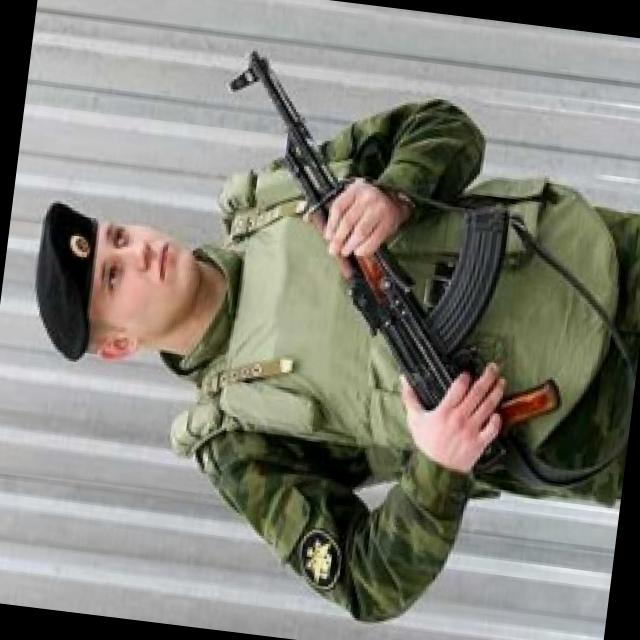long weapon: (211, 5, 571, 533)
